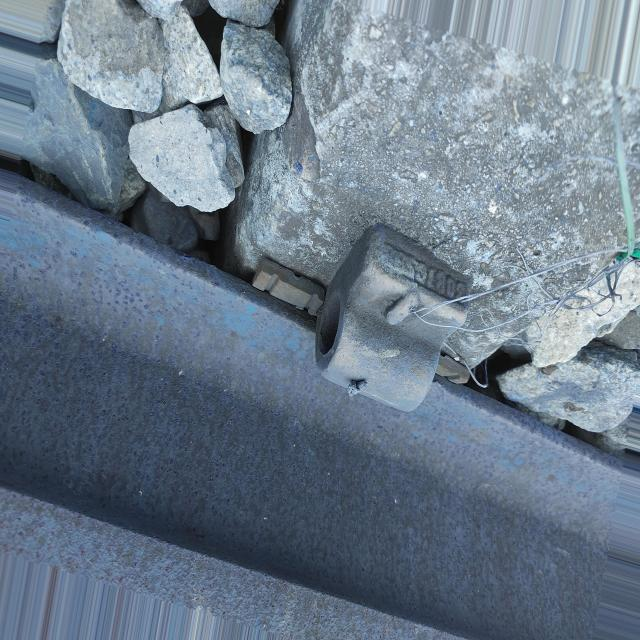Missing Fastener: (296, 201, 495, 452)
